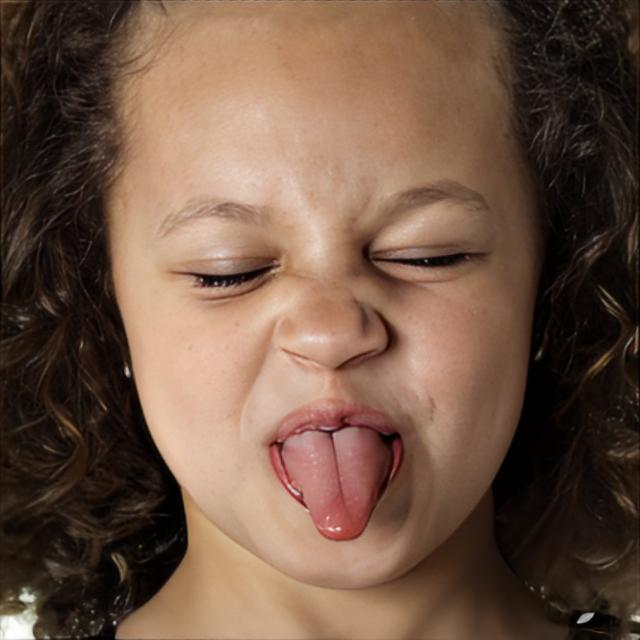disgust: (109, 0, 537, 589)
